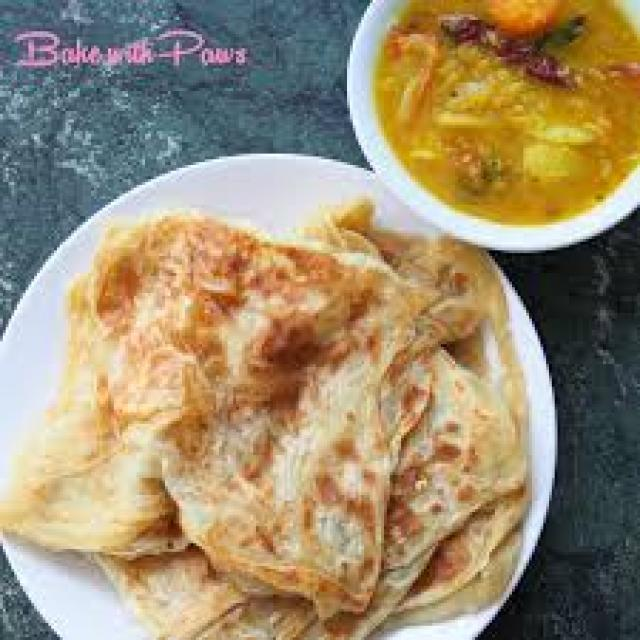Paratha: (84, 220, 574, 640)
